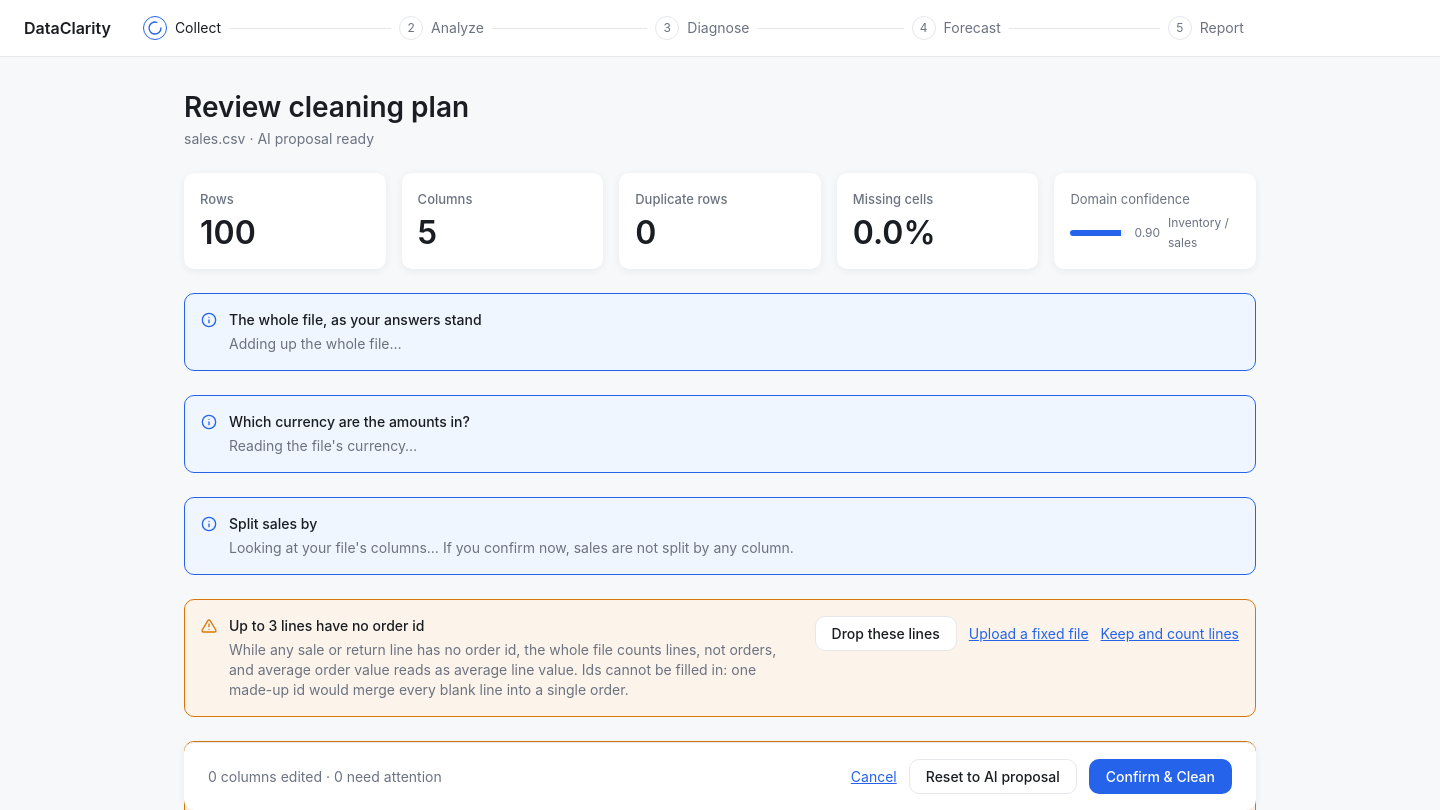
Test: ReviewPage: the receipt question › does not promise orders by id while kept lines have no id (cycle 2 F9)
Click the button "Keep and count lines".
click(1170, 634)  # box [1101,624,1239,644]
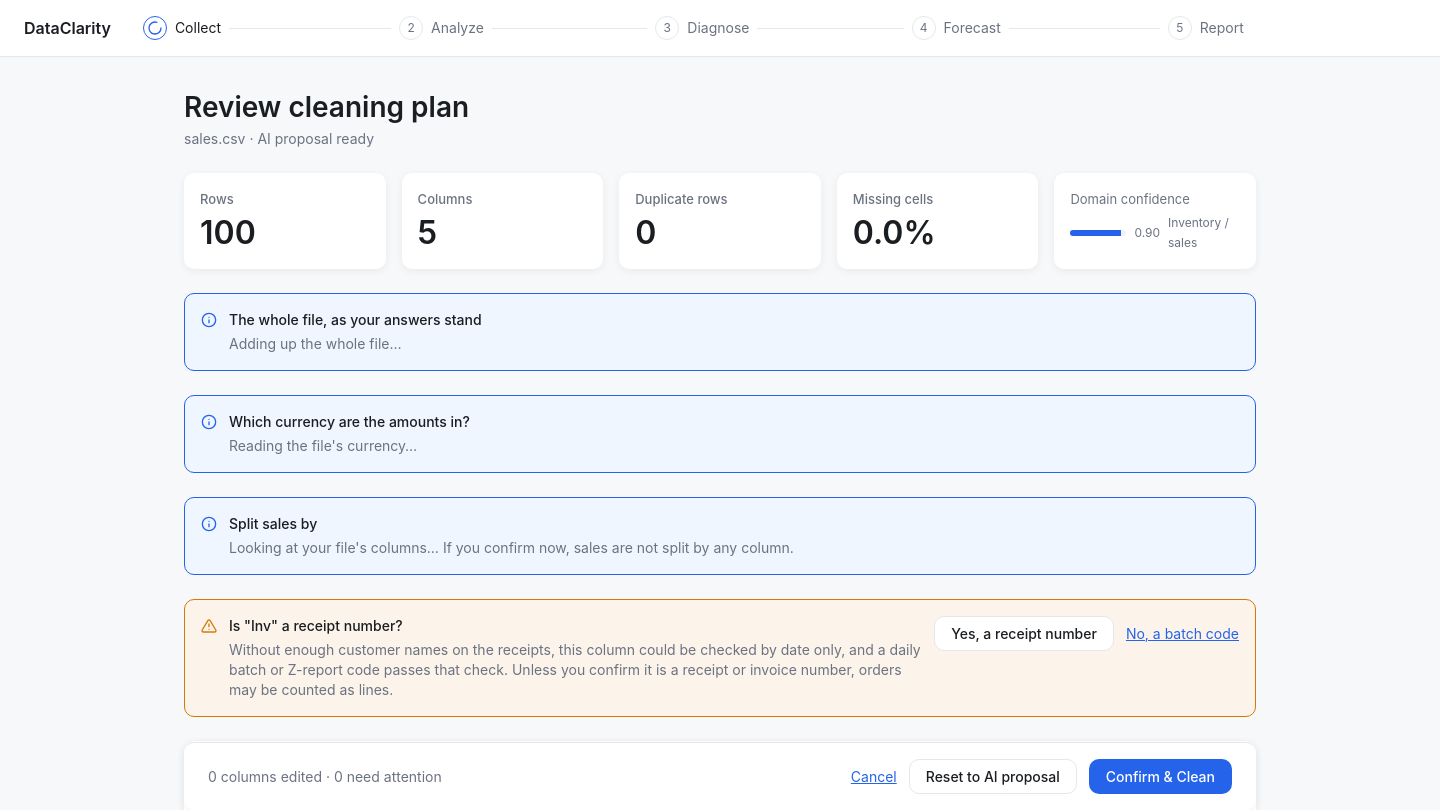
Click the button "Yes, a receipt number".
click(1024, 634)  # box [934,616,1114,651]
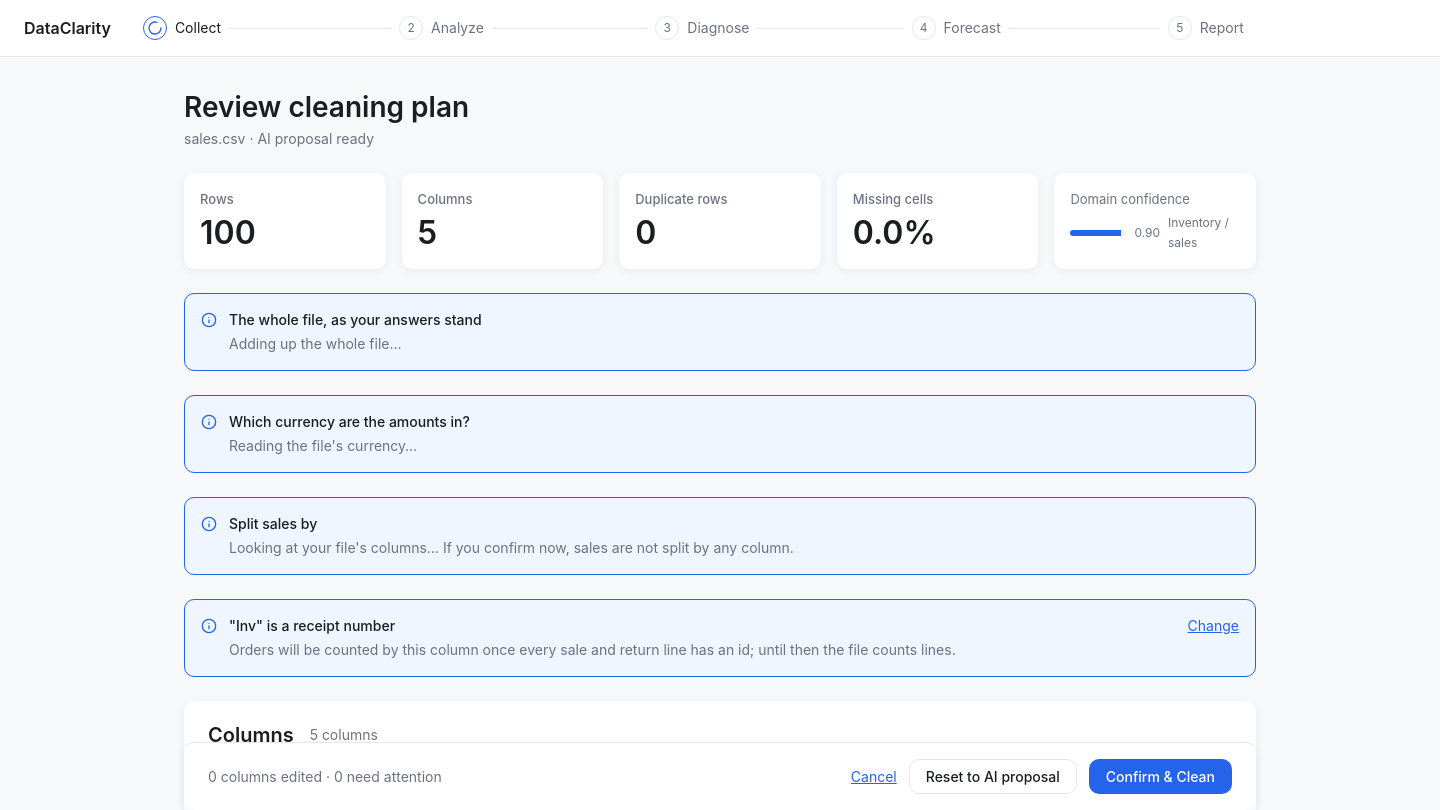
expect the text "once every sale and return line has an id" is shown: met, box [229,641,956,658]
